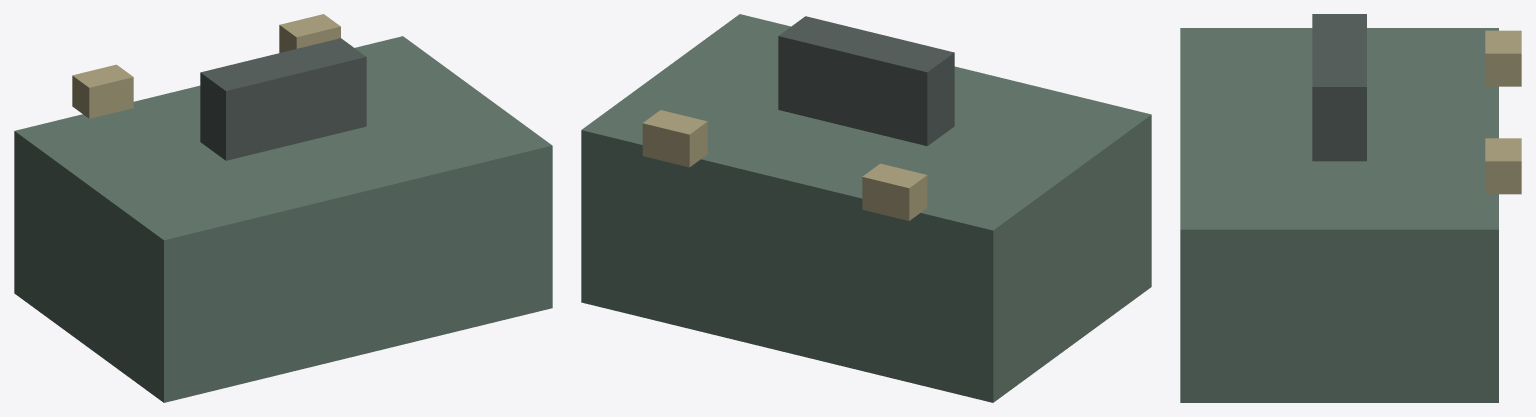
File: loot_tool_case.glb
3 renders of one model, left to right at view 1: azimuth 30°, elevation 25°; view 2: azimuth 150°, elevation 25°; view 3: azimuth 270°, elevation 25°, orthographic. The views are drawn at different scales.
Parts seen in each view (by area): view 1: case_0, handle_1, latch_2, latch_3; view 2: case_0, handle_1, latch_2, latch_3; view 3: case_0, handle_1, latch_2, latch_3.
Boxes of the visible parts, x1,y1,x2,y2 form: case_0: (14,36,552,402); handle_1: (200,38,366,160); latch_2: (72,64,133,118); latch_3: (279,14,340,52); case_0: (581,14,1151,402); handle_1: (778,16,954,146); latch_2: (862,163,927,220); latch_3: (642,110,707,167); case_0: (1180,28,1498,402); handle_1: (1312,14,1366,161); latch_2: (1485,30,1521,86); latch_3: (1485,138,1521,194).
Size of the model in its own units: 1.05 by 0.61 by 0.75.
